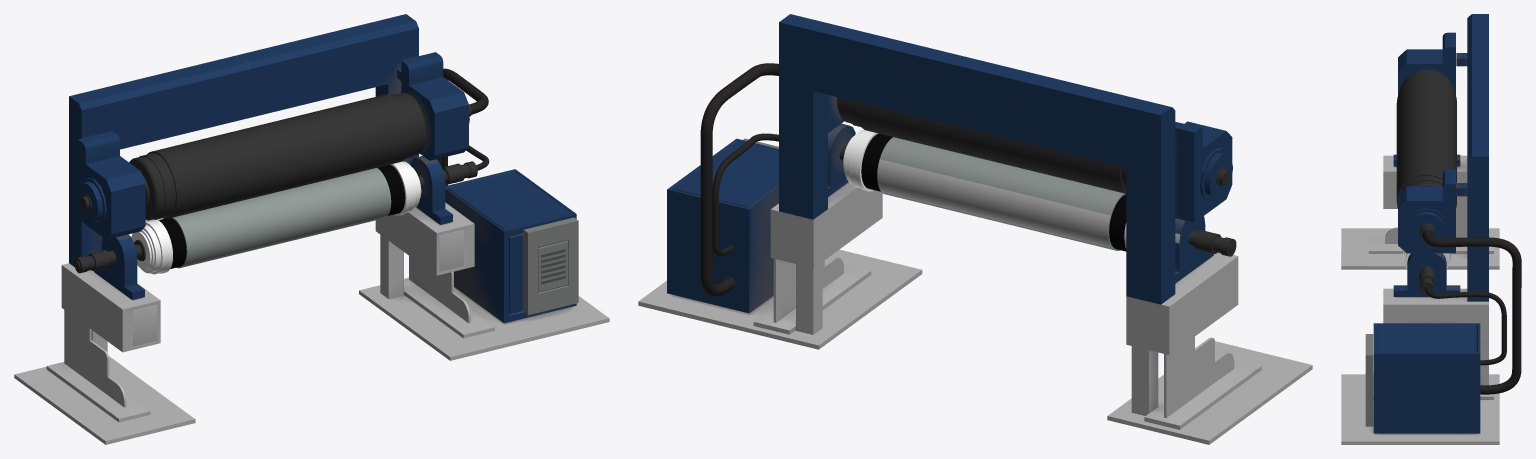
Rendered from calandro.fbx.
3 renders of one model, left to right at view 1: azimuth 30°, elevation 25°; view 2: azimuth 150°, elevation 25°; view 3: azimuth 270°, elevation 25°, orthographic. The views are drawn at different scales.
Parts seen in each view (by area): view 1: Cube.001; view 2: Cube.001; view 3: Cube.001.
Boxes of the visible parts, box(x1,y1,x2,y2) form: Cube.001: box(14, 14, 609, 444); Cube.001: box(638, 14, 1312, 444); Cube.001: box(1341, 14, 1521, 444).
Bounding box in the file's own units: 1810 × 942 × 647.
1 material, 1 textured.
